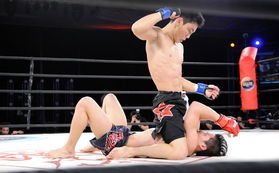fall: (43, 89, 240, 158)
